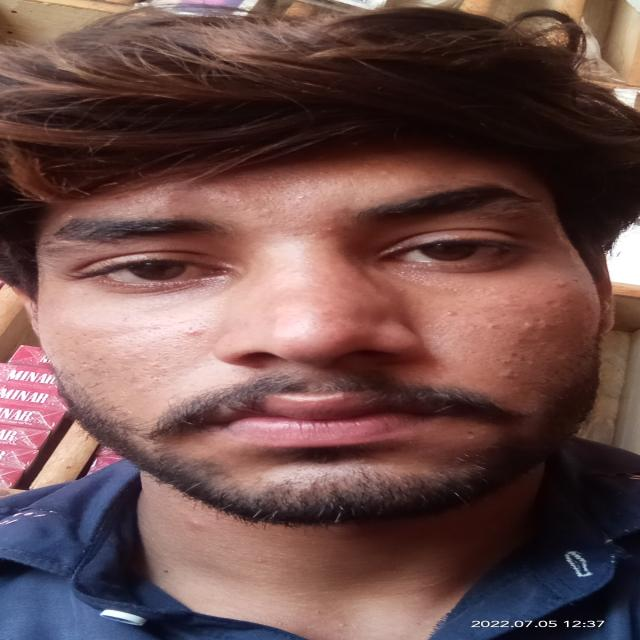Acne: (521, 319, 564, 331), (499, 368, 528, 381), (182, 327, 205, 337), (554, 278, 571, 290), (512, 335, 530, 345), (444, 309, 462, 318), (482, 323, 501, 330), (378, 169, 394, 177), (294, 194, 308, 202), (322, 226, 335, 233), (560, 308, 571, 313)
Englarged-Pores: (78, 330, 184, 386)
